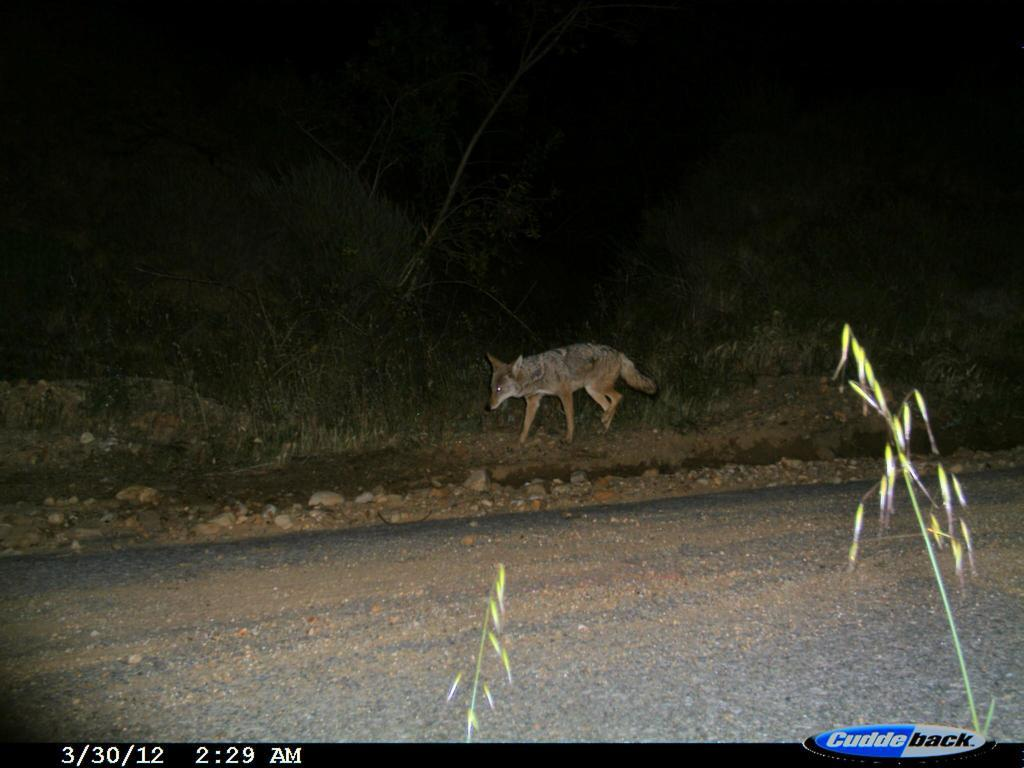coyote: (478, 338, 665, 445)
